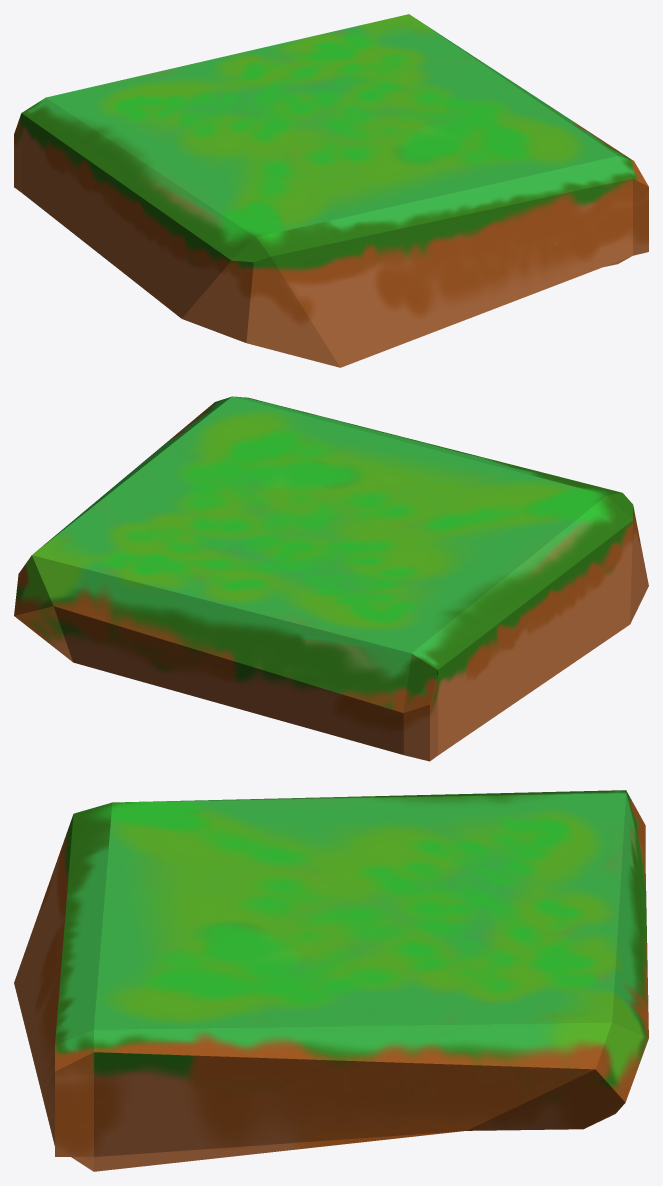
The model's file is platform01.glb.
3 views of the same model, one above another, from view 1: azimuth 30°, elevation 25°; view 2: azimuth 150°, elevation 25°; view 3: azimuth 270°, elevation 25° (orthographic). The views are drawn at different scales.
Visible parts, largest first — view 1: Cube; view 2: Cube; view 3: Cube.
Part boxes in pixels (box(x1,y1,x2,y2)): Cube: box(14, 14, 648, 367); Cube: box(14, 396, 648, 761); Cube: box(14, 790, 648, 1171).
Size of the model in its own units: 6 by 2 by 6.
1 material, 1 textured.
